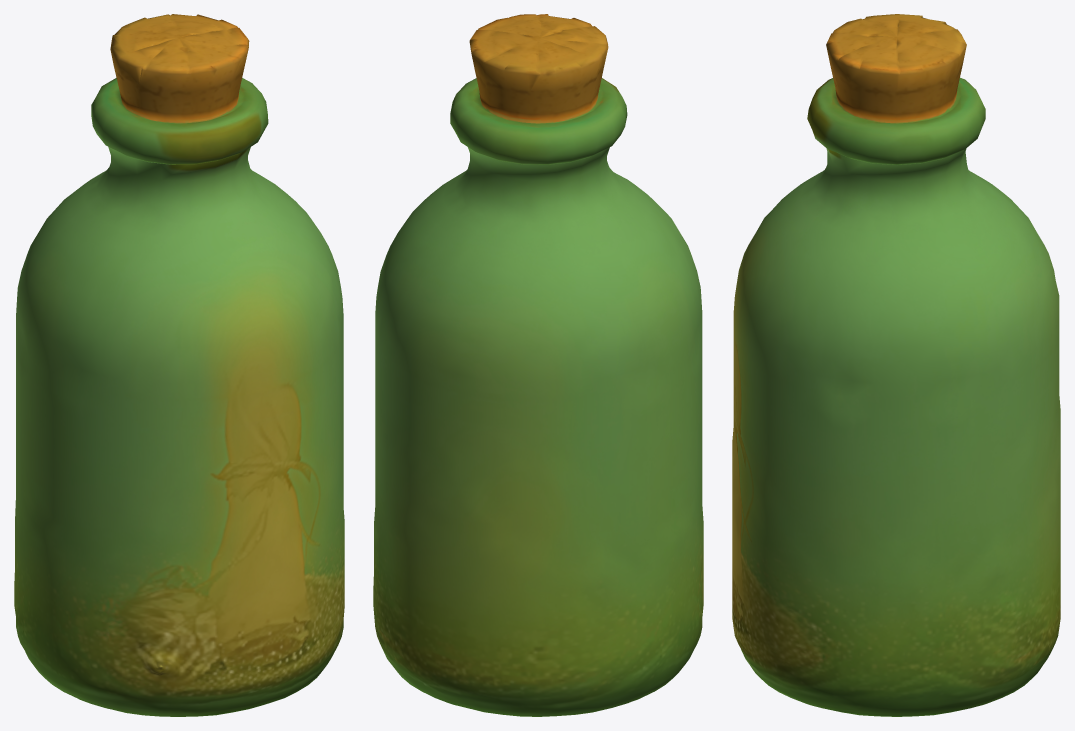
File: message_bottle.glb
3 views of the same model, side by side, from view 1: azimuth 30°, elevation 25°; view 2: azimuth 150°, elevation 25°; view 3: azimuth 270°, elevation 25° (orthographic).
Visible parts, largest first — view 1: tripo_node_04b77b69-0667-4296-9e8f-e9a5abce85fa; view 2: tripo_node_04b77b69-0667-4296-9e8f-e9a5abce85fa; view 3: tripo_node_04b77b69-0667-4296-9e8f-e9a5abce85fa.
Boxes of the visible parts, <box> form: tripo_node_04b77b69-0667-4296-9e8f-e9a5abce85fa: <box>14,14,344,716</box>; tripo_node_04b77b69-0667-4296-9e8f-e9a5abce85fa: <box>373,14,703,716</box>; tripo_node_04b77b69-0667-4296-9e8f-e9a5abce85fa: <box>732,14,1060,716</box>.
Bounding box in the file's own units: 0.4694 × 0.9791 × 0.4694.
1 material, 1 textured.
